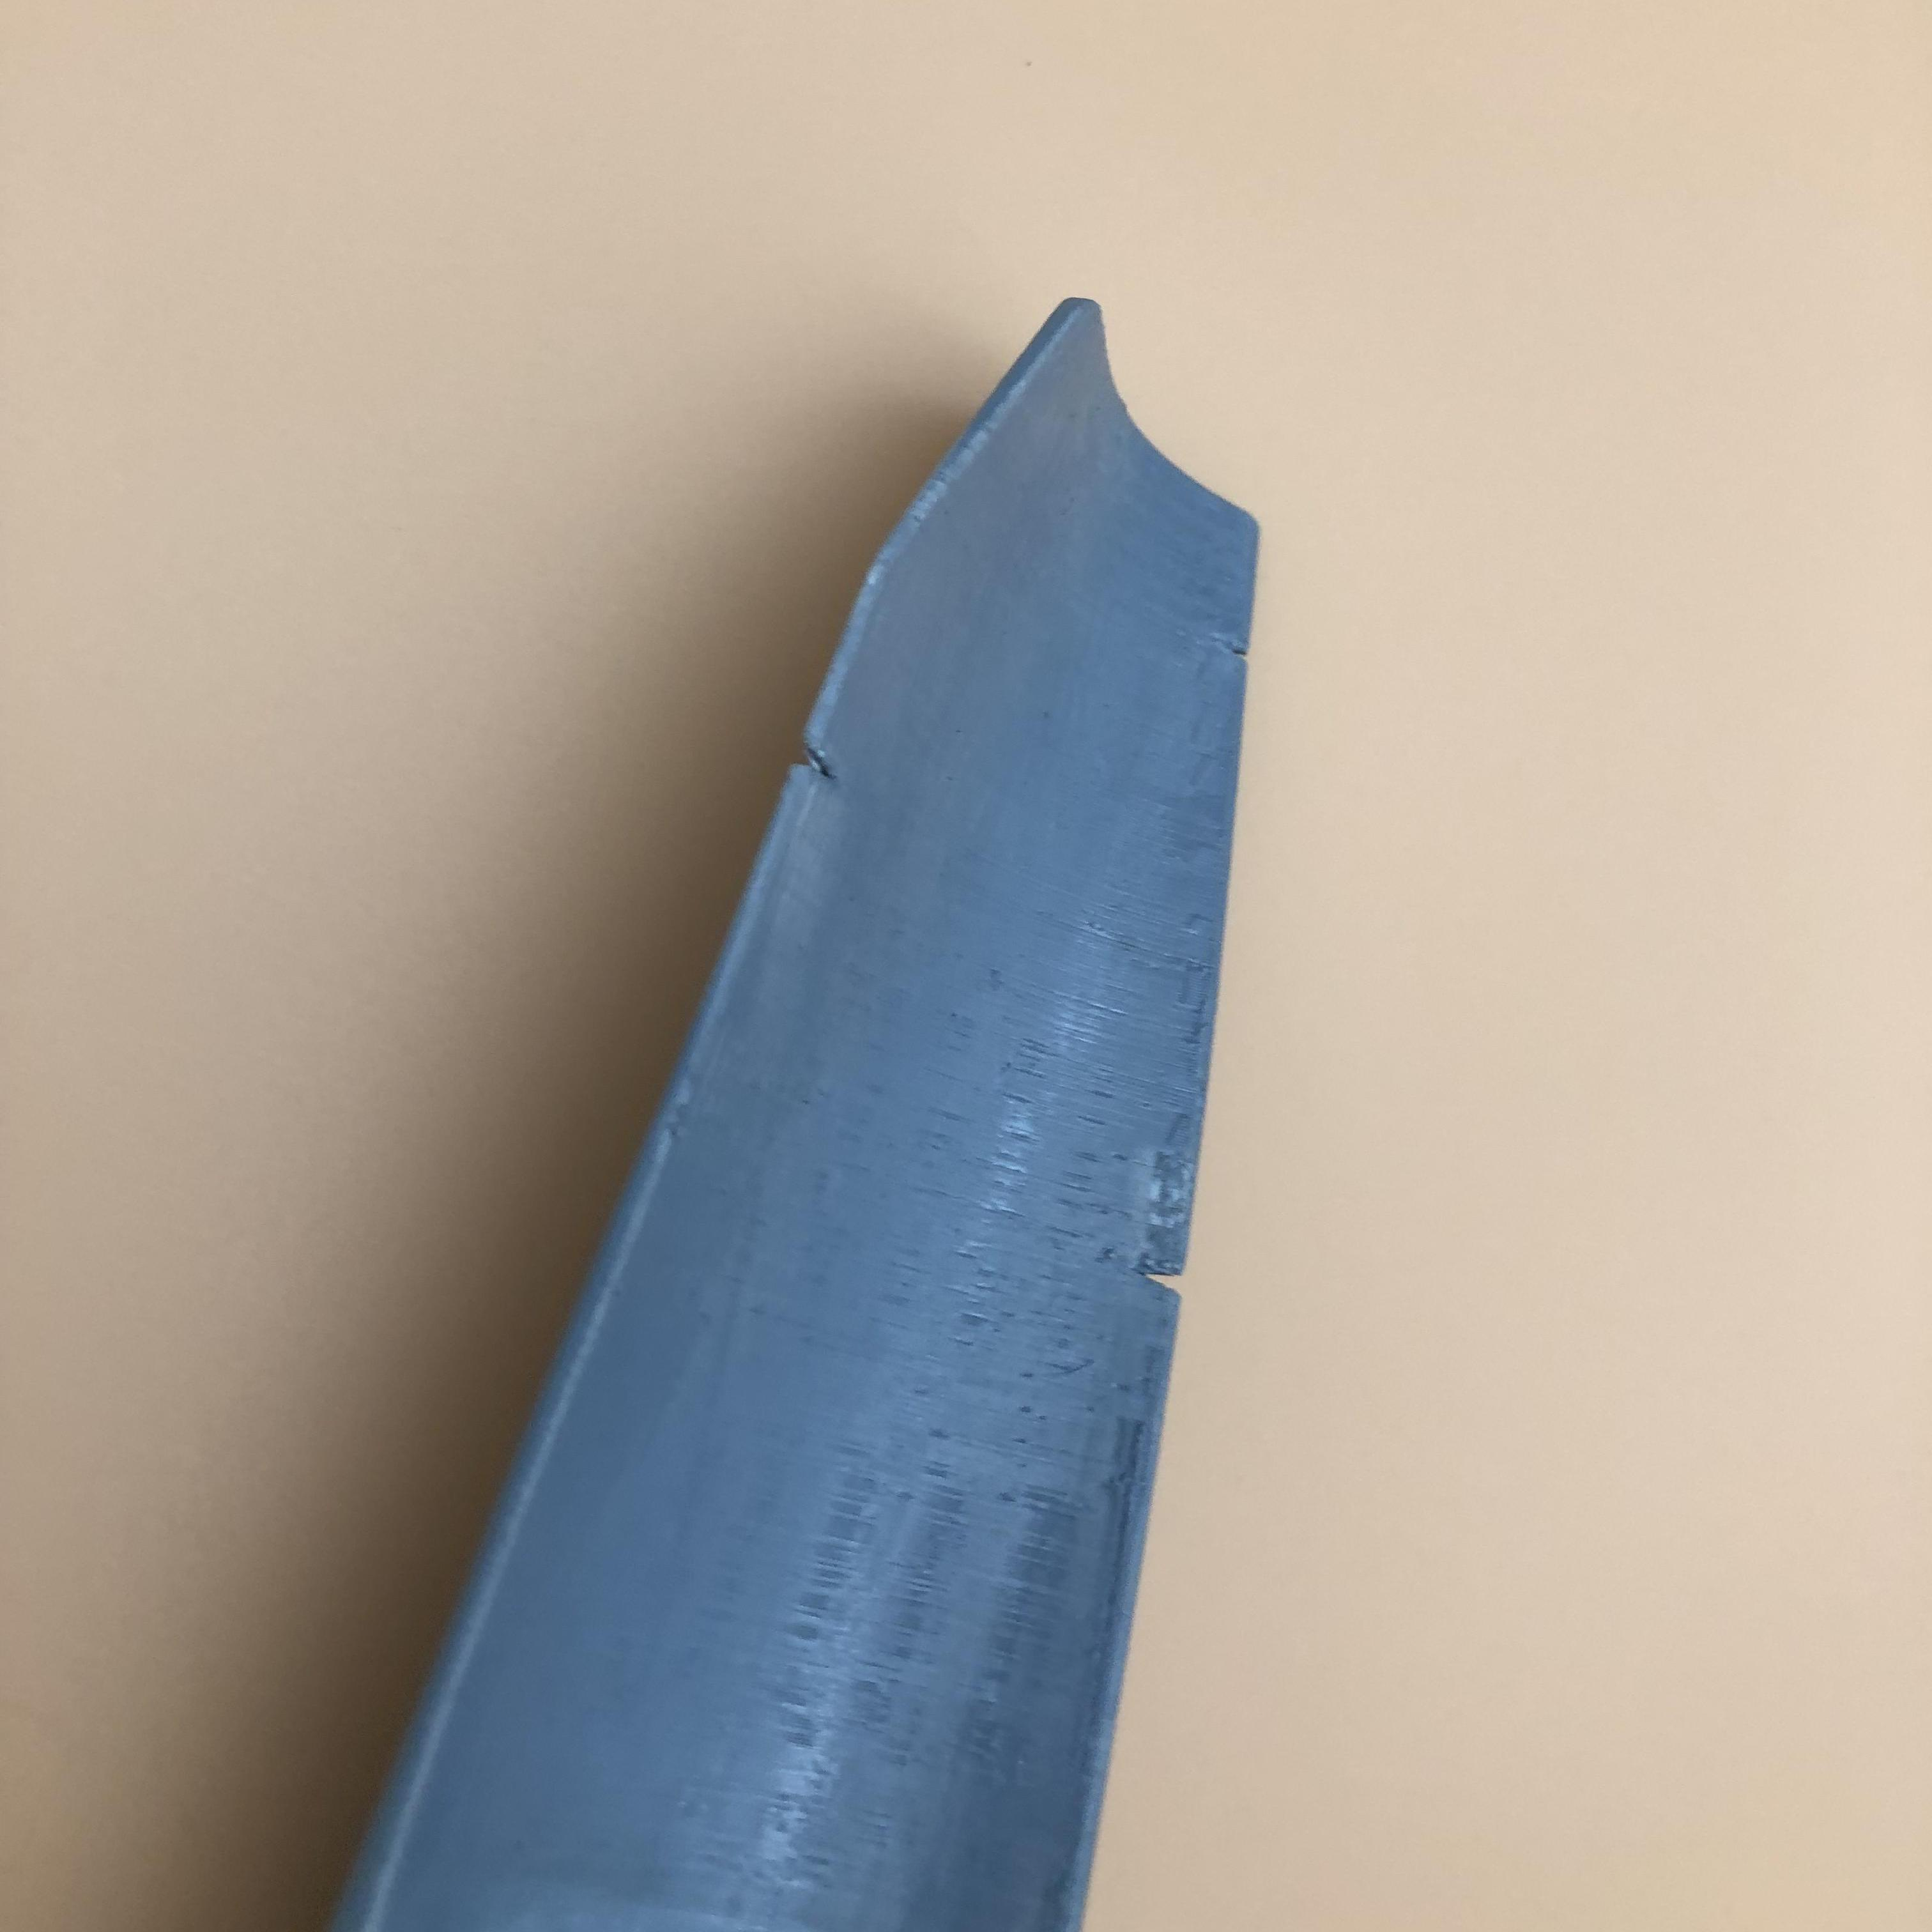groove: (1134, 1244, 1182, 1306), (791, 741, 847, 784), (1208, 625, 1265, 665)
